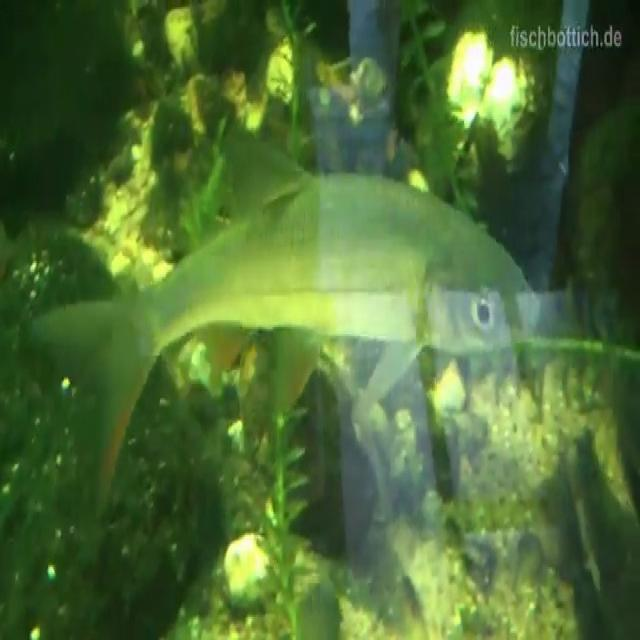Cakil Baligi: (31, 157, 539, 526)
